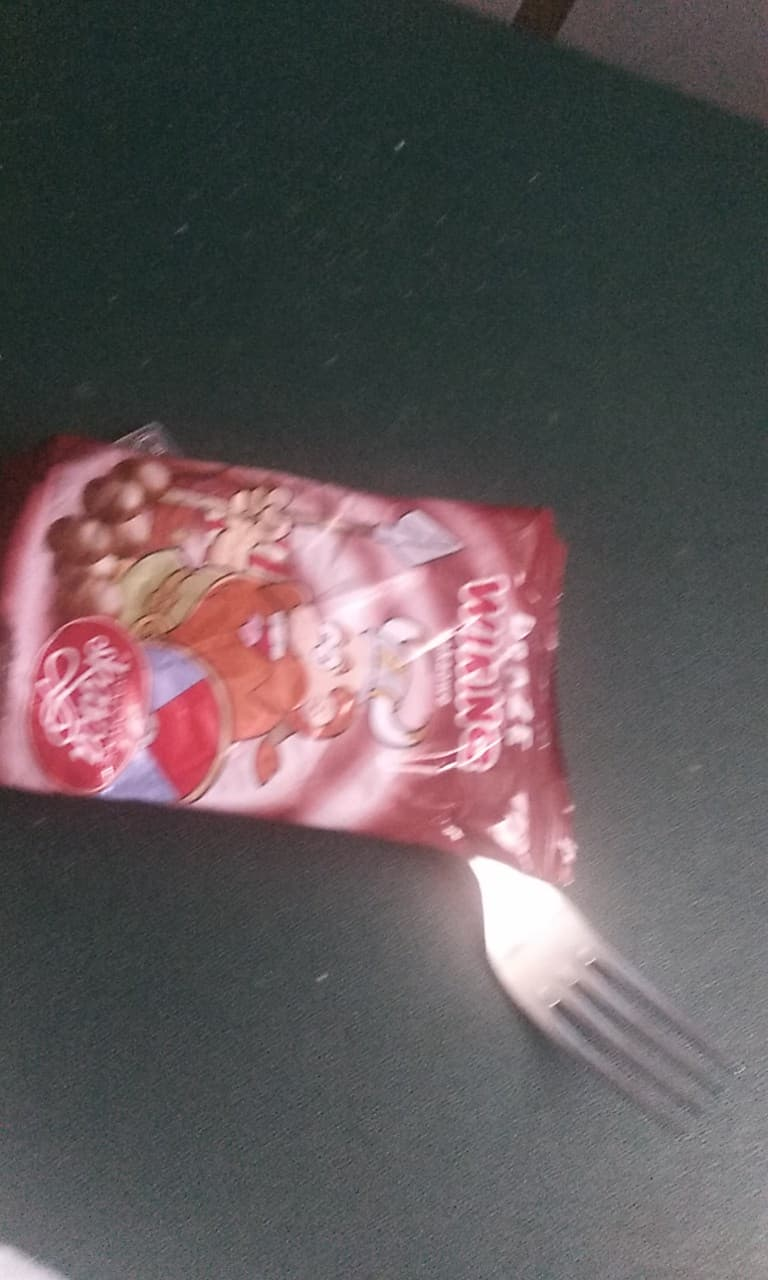Widelec: (459, 862, 749, 1143)
